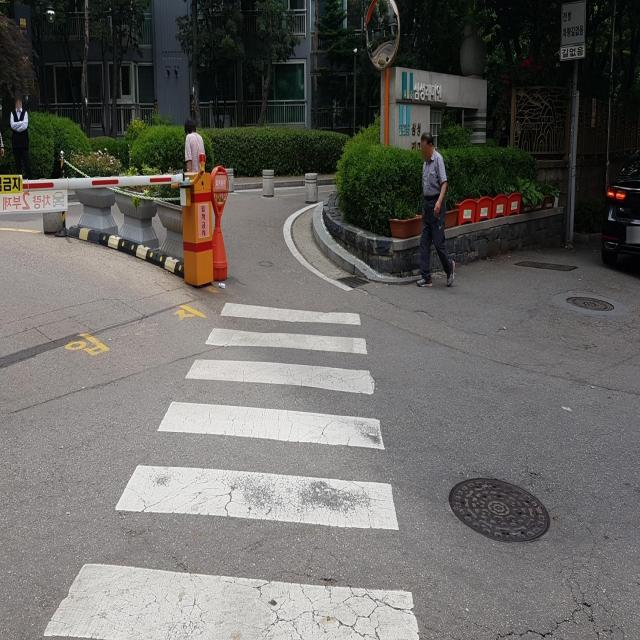횡단보도: (38, 294, 422, 640)
